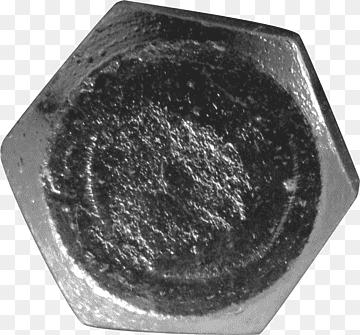hexagonal: (3, 0, 360, 335)
